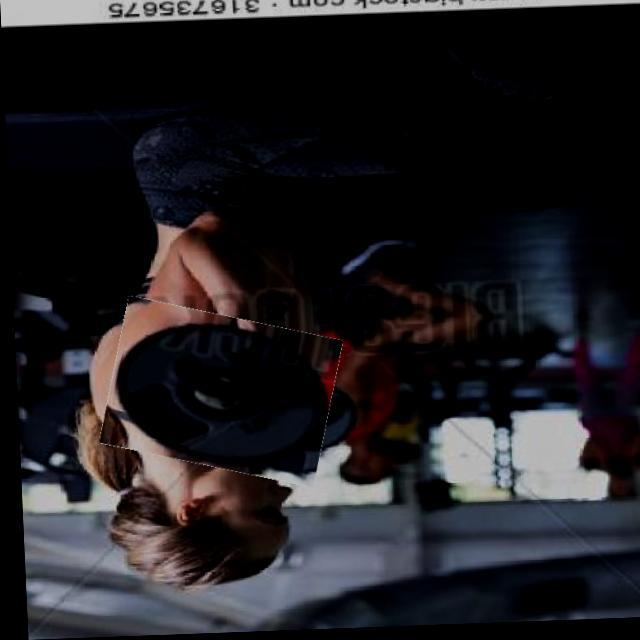barbell: (99, 303, 337, 485)
